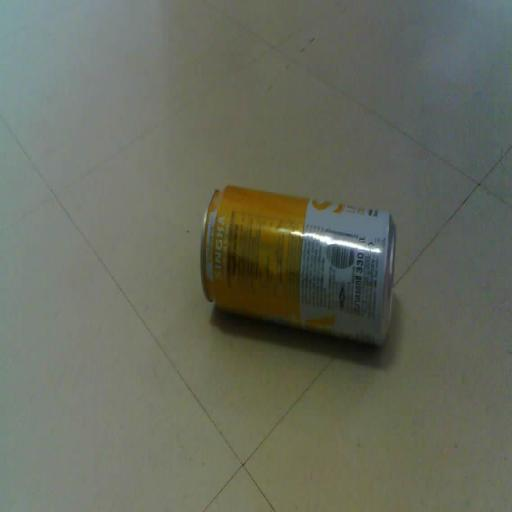canned: (195, 168, 401, 364)
